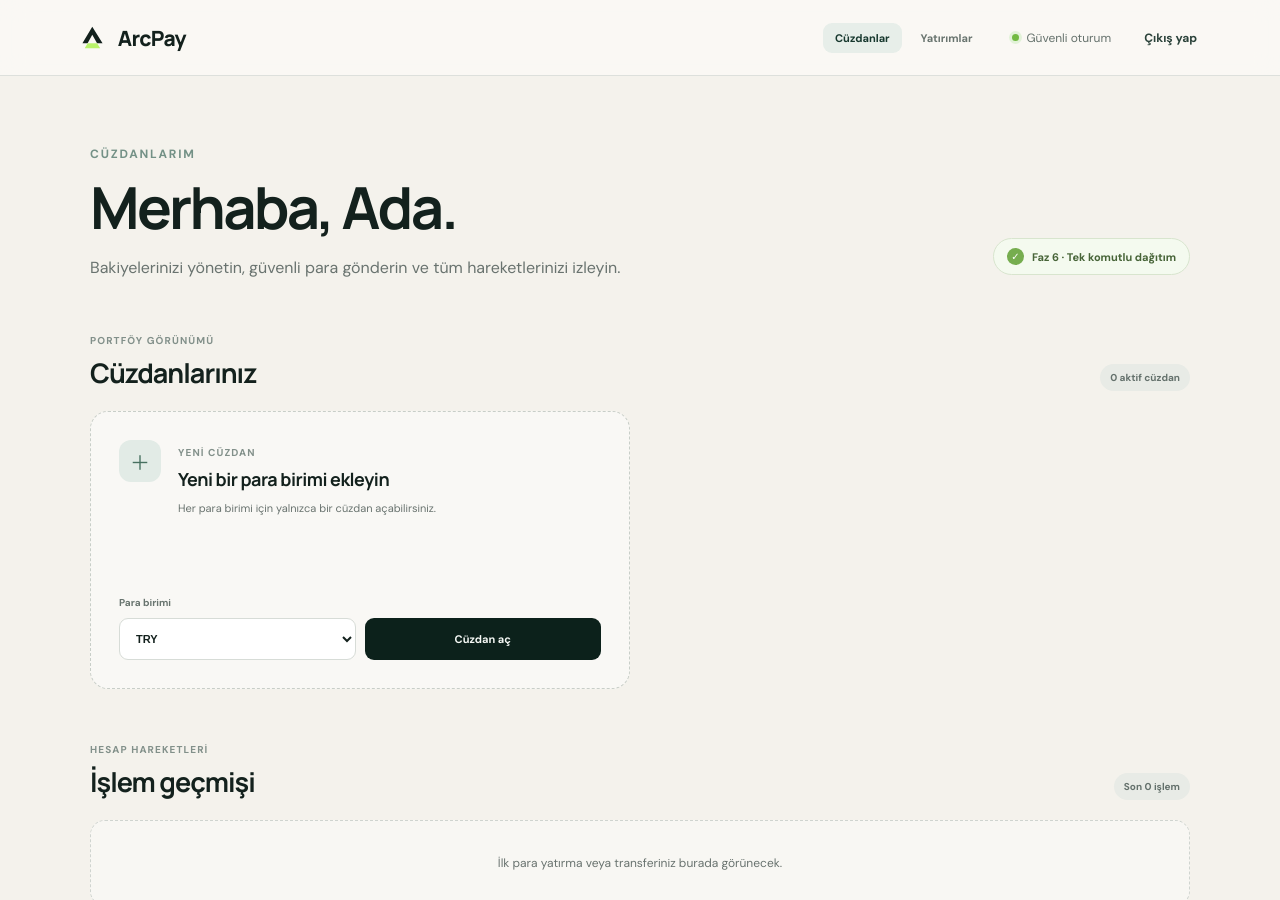
Test: ArcPay authentication flow › opens a TRY wallet and deposits money
This screenshot has width=1280, height=900.
Expected: the heading "Merhaba, Ada." is shown, [90,167,456,246]
Expected: the text "0 aktif cüzdan" is shown, [1100,364,1190,391]
Click the button "Cüzdan aç".
click(483, 639)  # box [364,618,601,660]
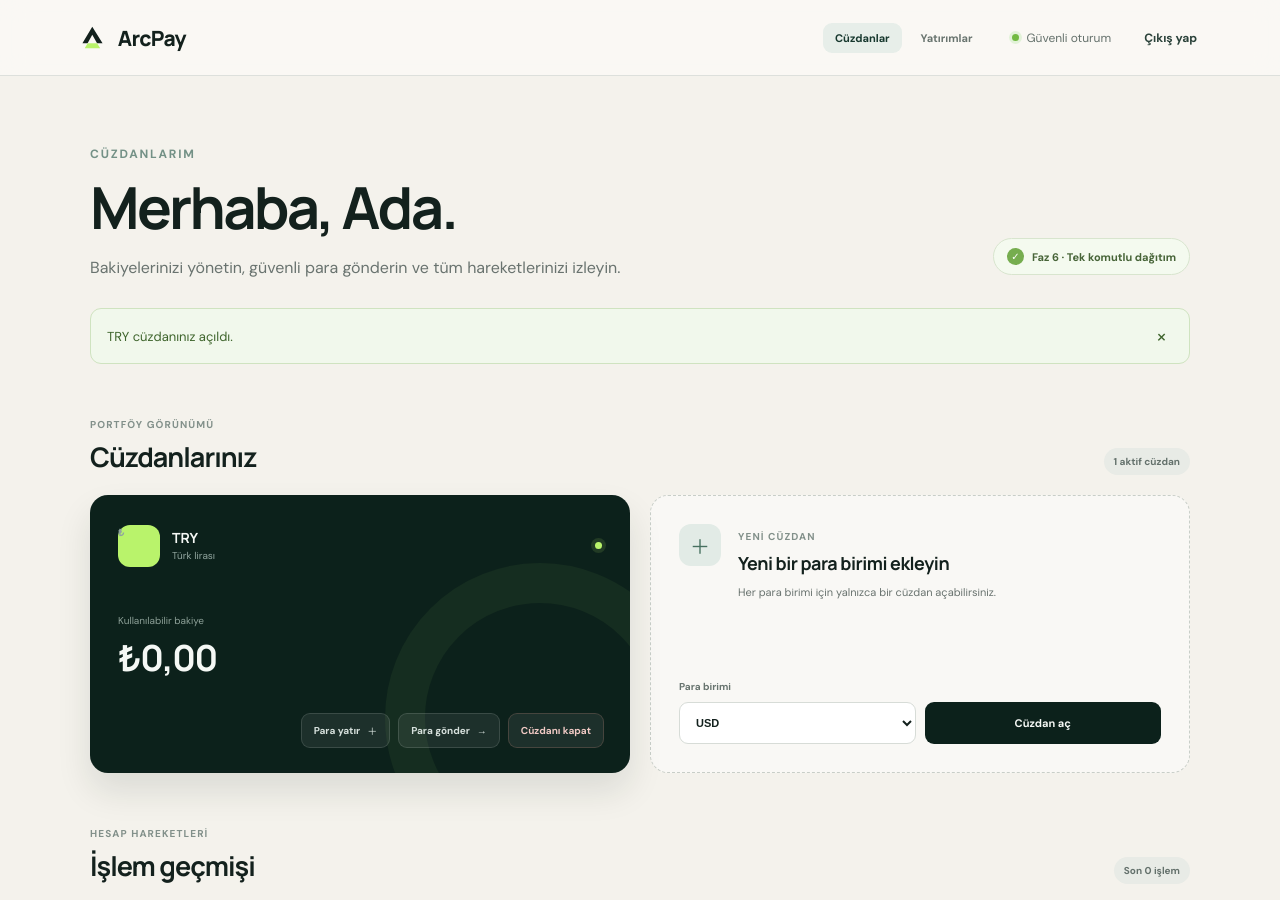
Now the text "TRY cüzdanınız açıldı." is shown, box [107,328,233,345]
Click the button "Para yatır ＋".
click(345, 731)  # box [301,713,390,748]
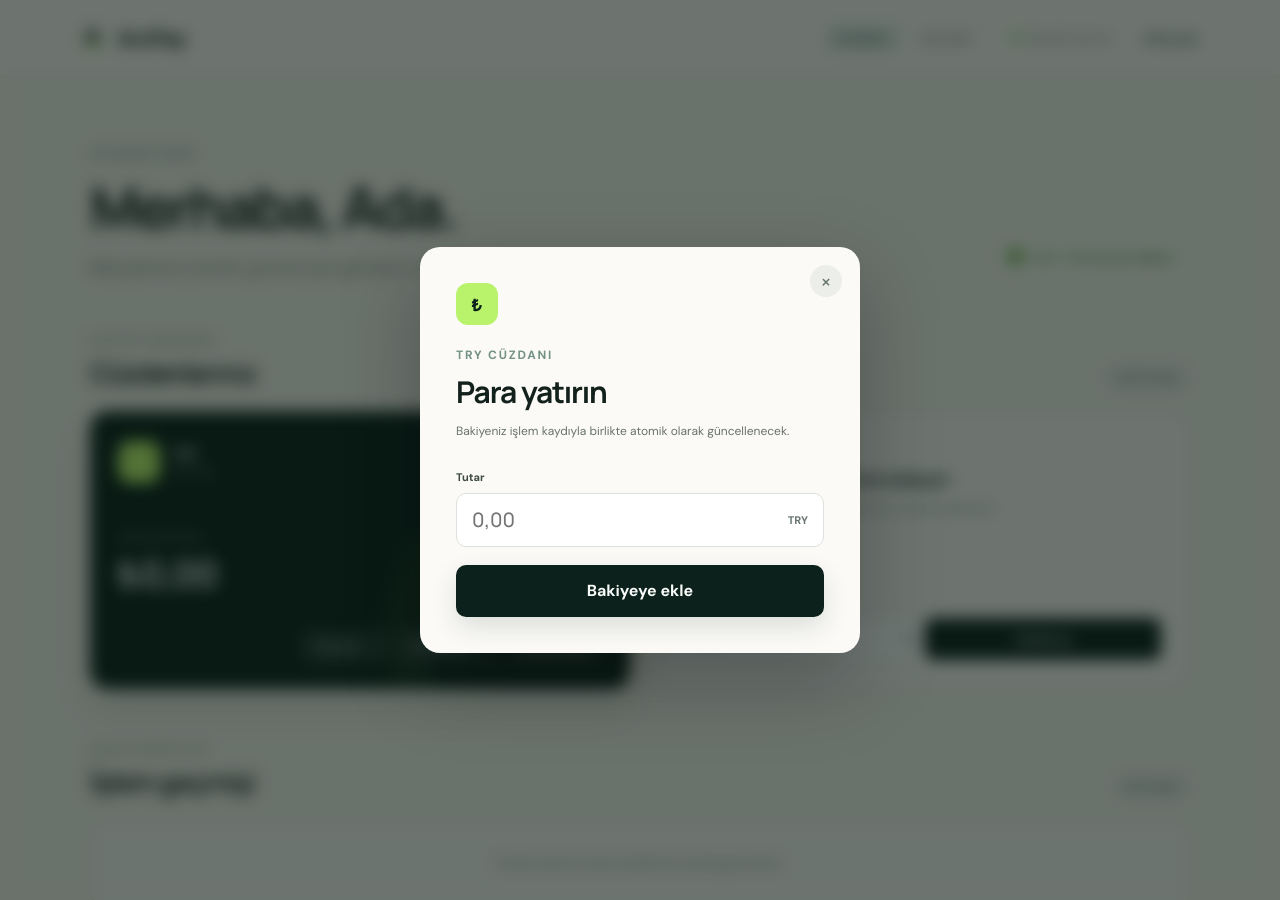
Type "1250,50" into the field labelled "Tutar".
click(615, 520); type("1250,50")  # box [457,494,773,546]
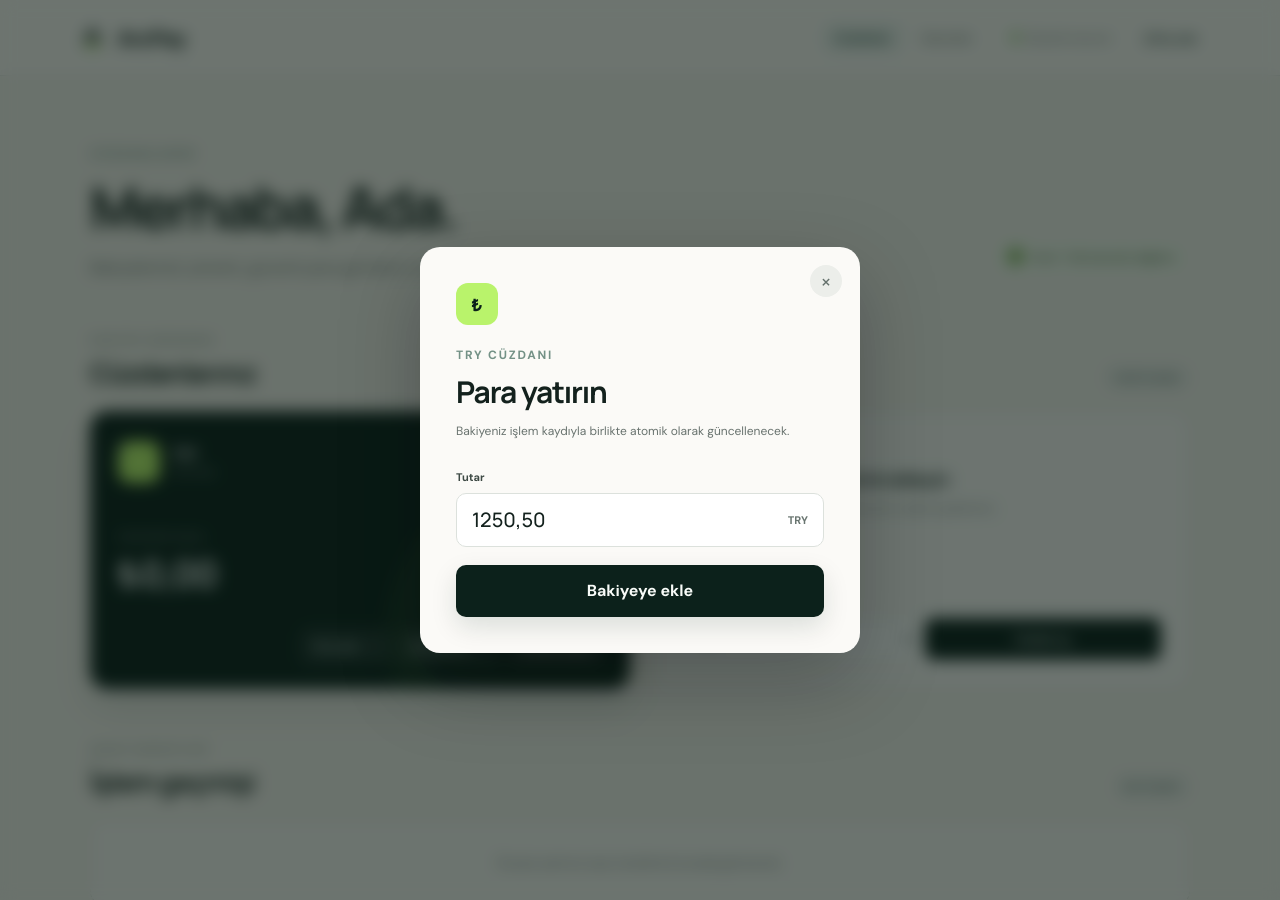
Click the button "Bakiyeye ekle".
click(640, 591)  # box [456,565,824,617]
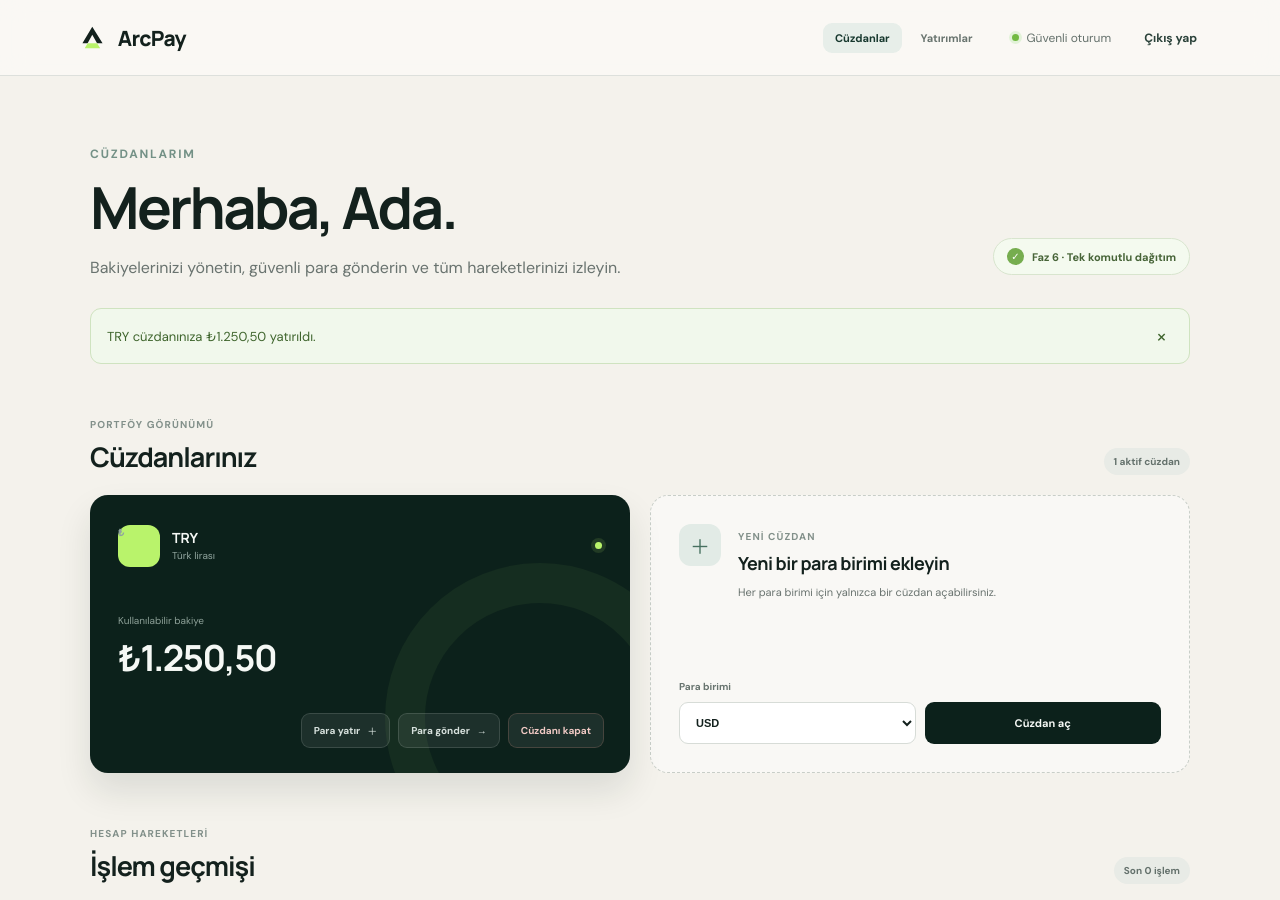
Now the text "TRY cüzdanınıza ₺1.250,50 yatırıldı. ×" is shown, box [90,308,1190,364]
